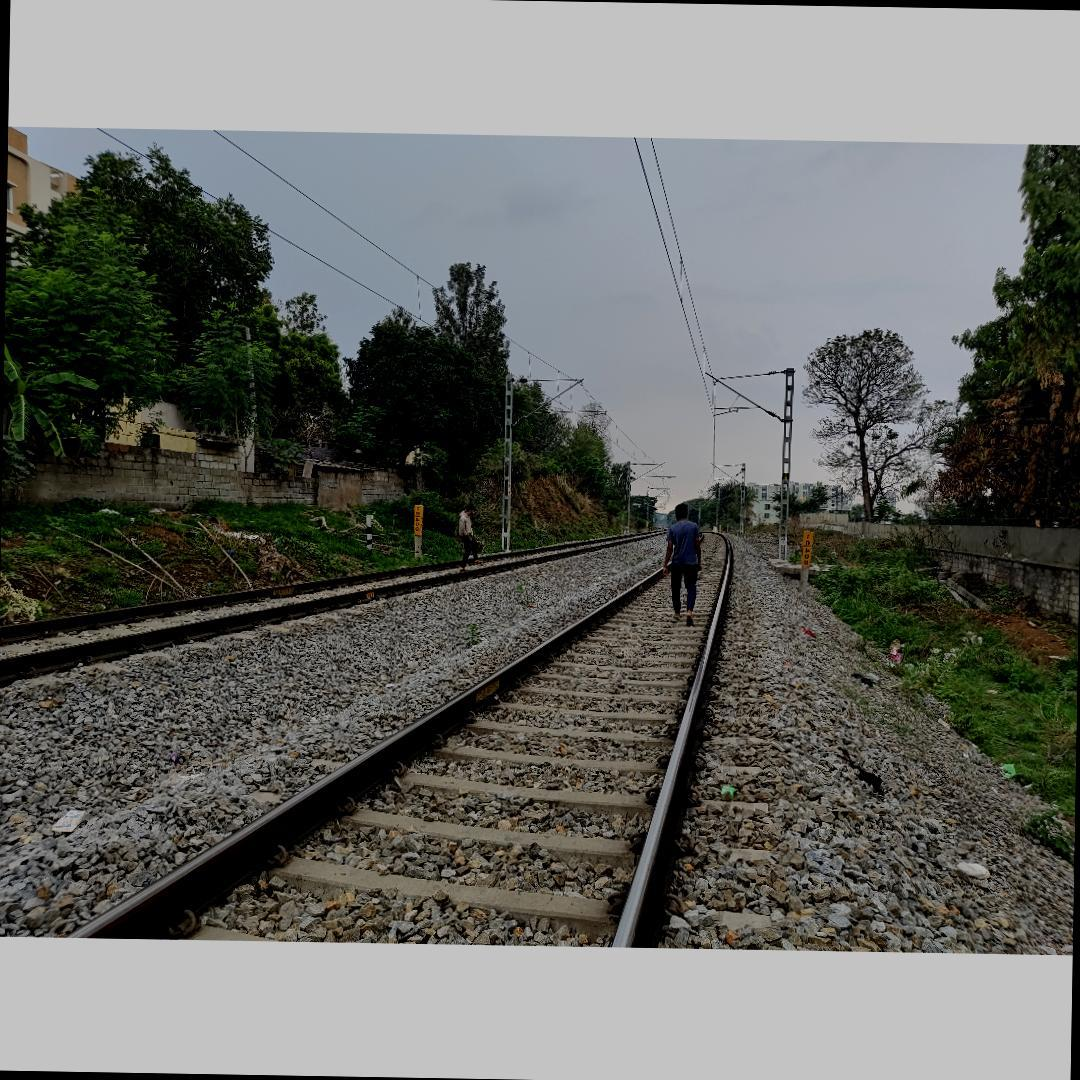standing: (660, 501, 704, 625), (456, 502, 482, 570)
track: (45, 521, 733, 947), (0, 528, 667, 701)
